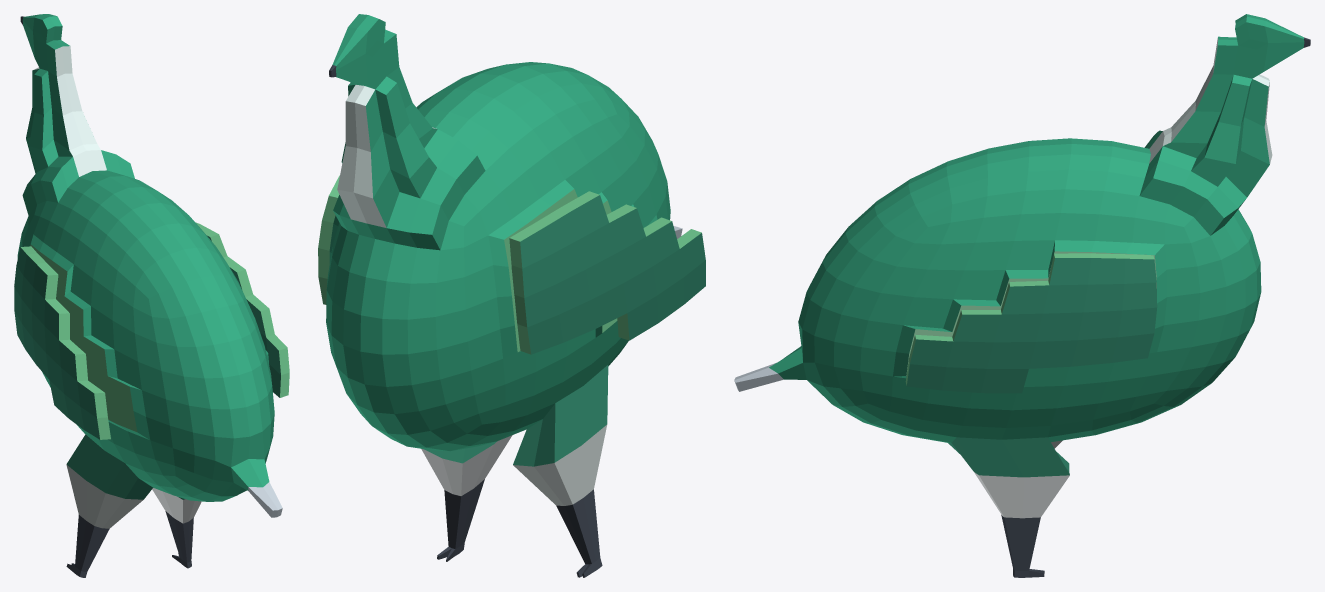
The model's file is galinaceoPI.fbx.
3 renders of one model, left to right at view 1: azimuth 30°, elevation 25°; view 2: azimuth 150°, elevation 25°; view 3: azimuth 270°, elevation 25°, orthographic. The views are drawn at different scales.
Parts seen in each view (by area): view 1: bird, ASALEFT, legLEFT, ASARIGHT, legRight; view 2: bird, ASALEFT, legLEFT, legRight, ASARIGHT; view 3: bird, ASARIGHT, legRight.
Part boxes in pixels (x1,y1,x2,y2): bird: (17,14,282,517); ASALEFT: (14,246,110,439); legLEFT: (66,434,152,577); ASARIGHT: (195,222,289,397); legRight: (152,488,201,568); bird: (326,14,682,451); ASALEFT: (509,191,705,354); legLEFT: (513,365,608,577); legRight: (421,435,512,561); ASARIGHT: (318,175,339,304); bird: (734,14,1310,442); ASARIGHT: (905,253,1157,393); legRight: (948,437,1069,577).
Size of the model in its own units: 80.81 by 189 by 183.
1 material, 1 textured.
